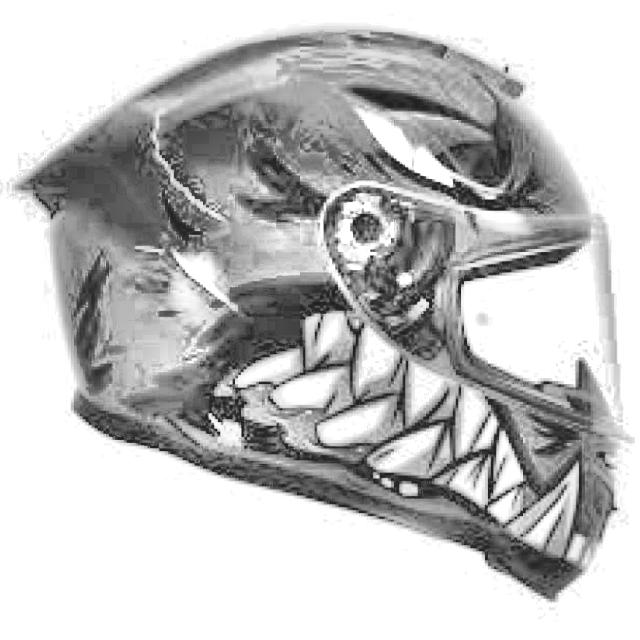Helmet: (18, 19, 629, 612)
